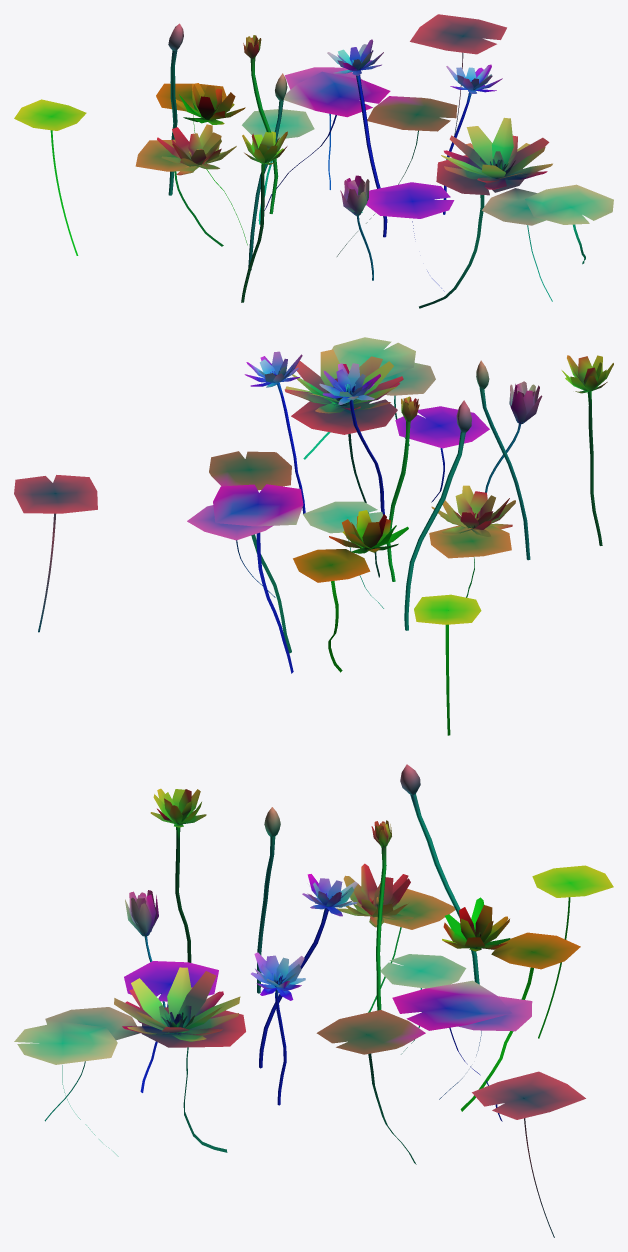
File: Rembrandt_Water_Lily_uc2kajgia_Mid_uc2kajgia_VarF_LOD0.fbx
The picture shows the model from 3 angles, top to bottom: view 1: azimuth 30°, elevation 25°; view 2: azimuth 150°, elevation 25°; view 3: azimuth 270°, elevation 25°; orthographic projection. The views are drawn at different scales.
Visible parts, largest first — view 1: _7e73_VarF_LOD1; view 2: _7e73_VarF_LOD1; view 3: _7e73_VarF_LOD1.
Boxes of the visible parts, bbox=[...] form: _7e73_VarF_LOD1: bbox=[14, 14, 613, 308]; _7e73_VarF_LOD1: bbox=[14, 337, 613, 735]; _7e73_VarF_LOD1: bbox=[14, 764, 613, 1237].
Size of the model in its own units: 149 by 85.04 by 148.
